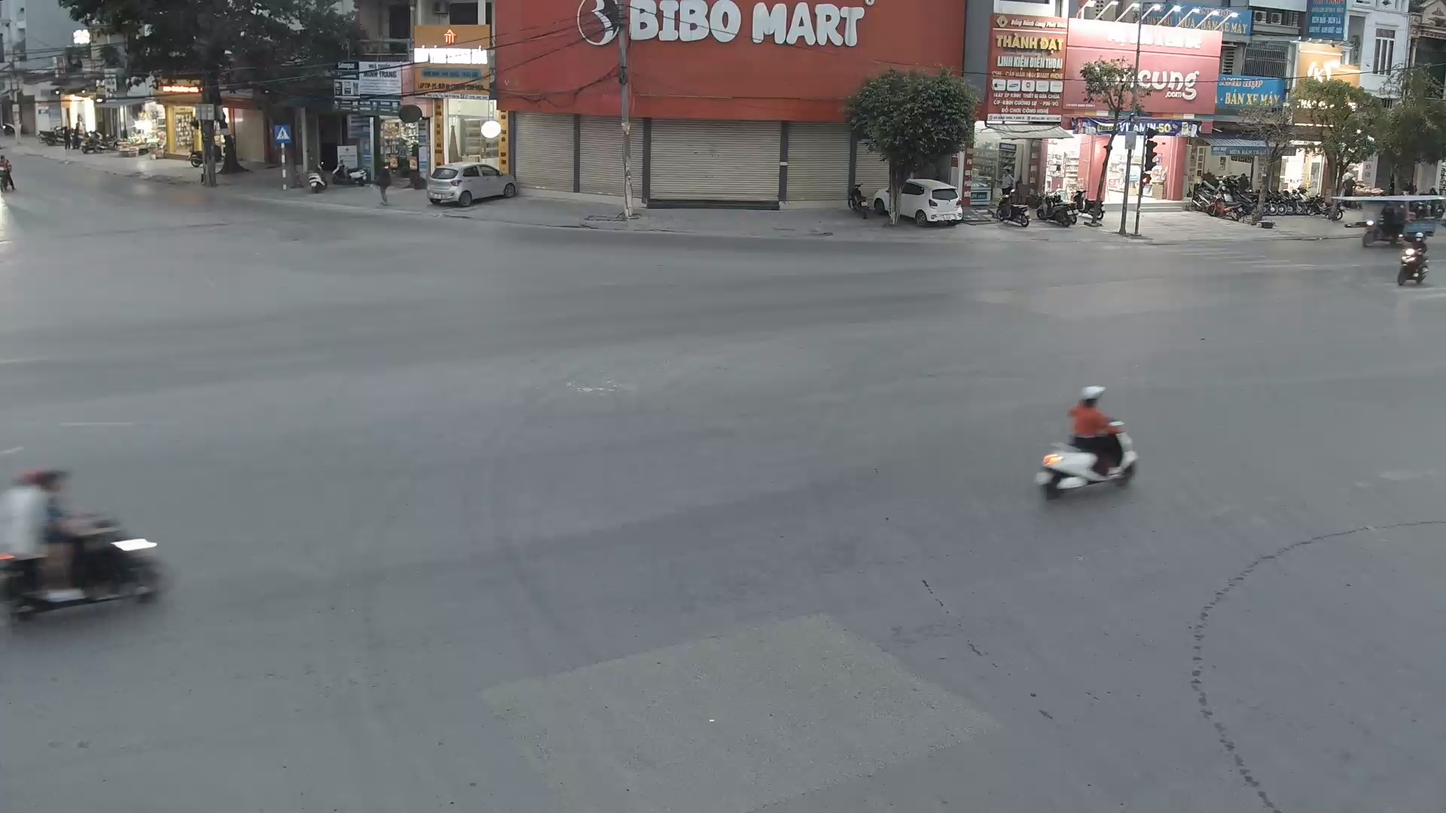car: (870, 169, 974, 227), (426, 162, 520, 210)
motorbike: (0, 463, 172, 622), (1034, 385, 1141, 500), (1396, 234, 1430, 287)
